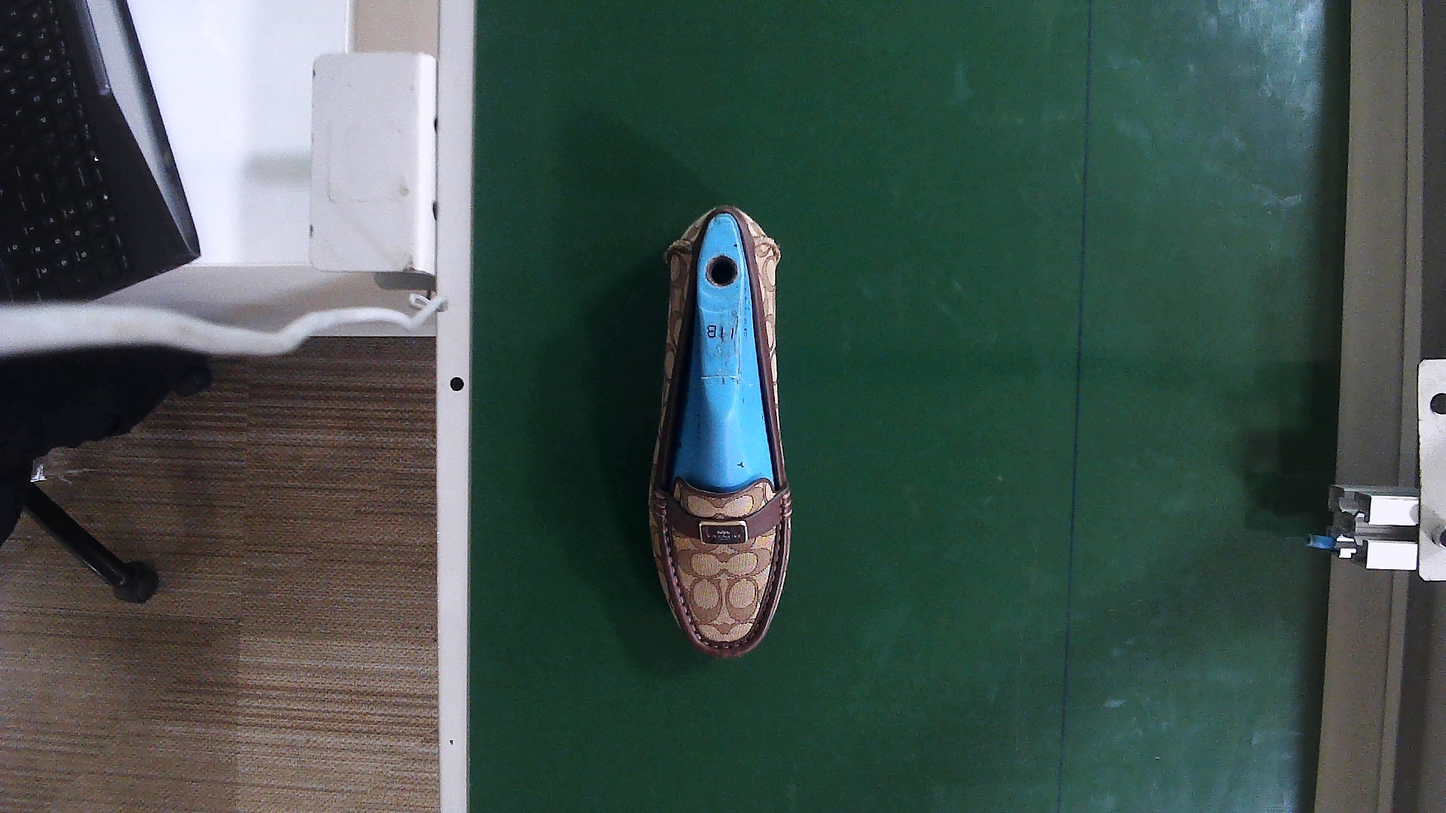shoe: (654, 210, 791, 657)
